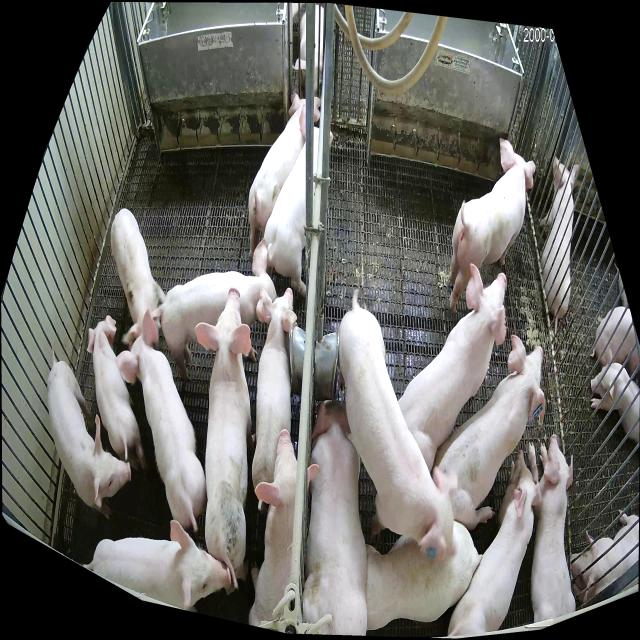pig: (338, 289, 458, 559), (397, 263, 507, 471), (433, 335, 545, 531), (116, 308, 207, 531), (196, 288, 255, 588), (447, 451, 542, 637), (150, 241, 278, 379), (302, 400, 367, 636), (448, 138, 535, 312), (48, 345, 130, 520), (249, 431, 319, 627), (83, 521, 230, 613), (364, 523, 481, 629), (249, 93, 321, 258), (264, 106, 319, 297), (87, 316, 147, 474), (252, 288, 297, 488), (528, 436, 575, 620), (111, 209, 166, 343)
